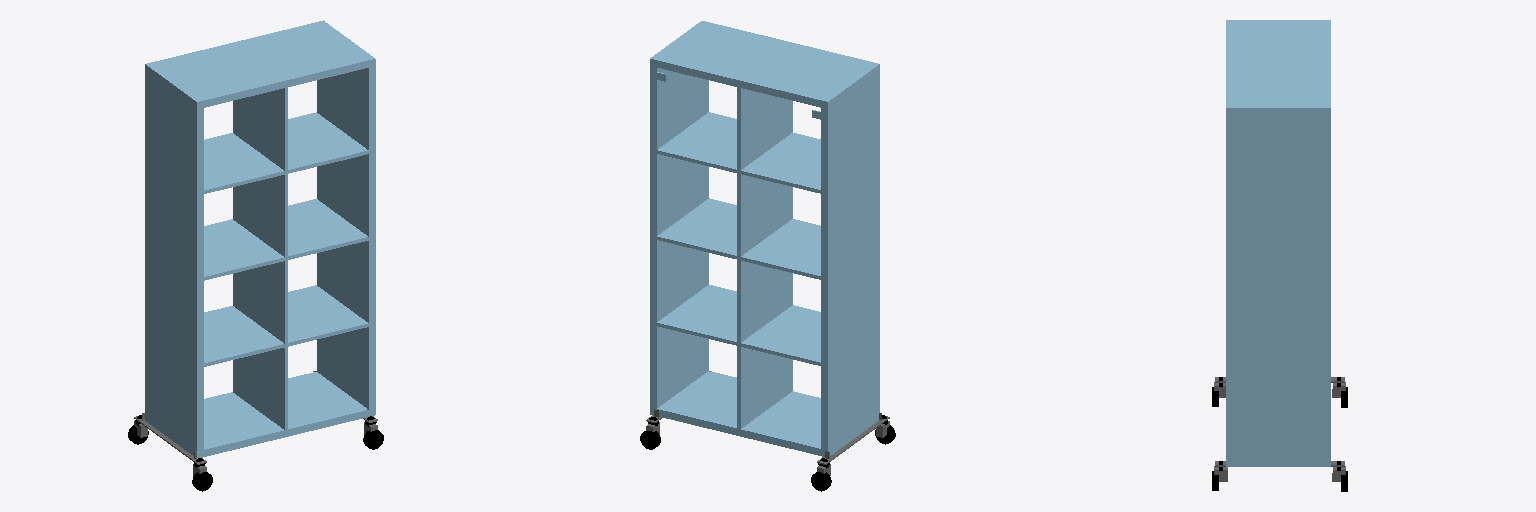
URDF robot description (bookcase):
<robot name="bookcase">
    <link name="base_footprint">
      <inertial>
        <origin
            xyz="0 0 0"
            rpy="0 0 0" />
        <mass
            value="0.1" />
        <inertia
            ixx="1"
            ixy="0"
            ixz="0"
            iyy="1"
            iyz="0"
            izz="1" />            
      </inertial>
    </link>

    <link name="bookcase">
        <visual>
            <geometry>
                <mesh filename="bookcase.stl"/>
            </geometry>
            <material name="blue">
                <color rgba="0.61961  0.79216  0.88235 1.0"/>
            </material>
        </visual>
        <collision>
            <geometry>
                <mesh filename="bookcase.stl"/>
            </geometry>
        </collision>
    </link>

    # Copied from wheels.urdf.
    <link name="r_wheel_link">
        <collision>
          <origin xyz="-0.0 -0.0025 0.0" />
          <geometry>
            <box size="0.04 0.005 0.48" />
          </geometry>
        </collision>
        <visual>
          <origin xyz="-0.0 -0.0025 0.0" />
          <material name="c">
            <color rgba="0.48 0.48 0.48 1.0"/>
          </material>
          <geometry>
            <box size="0.04 0.005 0.48" />
          </geometry>
        </visual>
        <collision>
          <origin xyz="0.0 0.015 0.19625" />
          <geometry>
            <box size="0.02 0.03 0.0025" />
          </geometry>
        </collision>
        <visual>
          <origin xyz="0.0 0.015 0.19625" />
          <material name="c">
            <color rgba="0.48 0.48 0.48 1.0"/>
          </material>
          <geometry>
            <box size="0.02 0.03 0.0025" />
          </geometry>
        </visual>
        <collision>
          <origin xyz="0.0 0.015 -0.19625" />
          <geometry>
            <box size="0.02 0.03 0.0025" />
          </geometry>
        </collision>
        <visual>
          <origin xyz="0.0 0.015 -0.19625" />
          <material name="c">
            <color rgba="0.48 0.48 0.48 1.0"/>
          </material>
          <geometry>
            <box size="0.02 0.03 0.0025" />
          </geometry>
        </visual>
        <collision>
          <origin xyz="0.0 -0.0125 0.22" />
          <geometry>
            <cylinder length="0.015" radius="0.02" />
          </geometry>
        </collision>
        <visual>
          <origin xyz="0.0 -0.0125 0.22" />
          <material name="c">
            <color rgba="0.0 0.0 0.0 0.8"/>
          </material>
          <geometry>
            <cylinder length="0.015" radius="0.02" />
          </geometry>
        </visual>
        <collision>
          <origin xyz="0.0 -0.0125 -0.22" />
          <geometry>
            <cylinder length="0.015" radius="0.02" />
          </geometry>
        </collision>
        <visual>
          <origin xyz="0.0 -0.0125 -0.22" />
          <material name="c">
            <color rgba="0.0 0.0 0.0 0.8"/>
          </material>
          <geometry>
            <cylinder length="0.015" radius="0.02" />
          </geometry>
        </visual>
        <collision>
          <origin xyz="0.0 -0.075 -0.24" />
          <geometry>
            <cylinder length="0.026" radius="0.035" />
          </geometry>
        </collision>
        <visual>
          <origin xyz="0.0 -0.075 -0.24" />
          <material name="d">
            <color rgba="0.0 0.0 0.0 1.0"/>
          </material>
          <geometry>
            <cylinder length="0.026" radius="0.035" />
          </geometry>
        </visual>
        <collision>
          <origin xyz="0.0 -0.075 -0.24" />
          <geometry>
            <cylinder length="0.025" radius="0.0375" />
          </geometry>
        </collision>
        <visual>
          <origin xyz="0.0 -0.075 -0.24" />
          <material name="d">
            <color rgba="0.0 0.0 0.0 1.0"/>
          </material>
          <geometry>
            <cylinder length="0.025" radius="0.0375" />
          </geometry>
        </visual>
        <collision>
          <origin xyz="0.0 -0.045 -0.22" />
          <geometry>
            <box size="0.03 0.05 0.05" />
          </geometry>
        </collision>
        <visual>
          <origin xyz="0.0 -0.045 -0.22" />
          <material name="c">
            <color rgba="0.48 0.48 0.48 1.0"/>
          </material>
          <geometry>
            <box size="0.03 0.05 0.05" />
          </geometry>
        </visual>
        <collision>
          <origin xyz="0.0 -0.075 0.24" />
          <geometry>
            <cylinder length="0.026" radius="0.035" />
          </geometry>
        </collision>
        <visual>
          <origin xyz="0.0 -0.075 0.24" />
          <material name="d">
            <color rgba="0.0 0.0 0.0 1.0"/>
          </material>
          <geometry>
            <cylinder length="0.026" radius="0.035" />
          </geometry>
        </visual>
        <collision>
          <origin xyz="0.0 -0.075 0.24" />
          <geometry>
            <cylinder length="0.025" radius="0.0375" />
          </geometry>
        </collision>
        <visual>
          <origin xyz="0.0 -0.075 0.24" />
          <material name="d">
            <color rgba="0.0 0.0 0.0 1.0"/>
          </material>
          <geometry>
            <cylinder length="0.025" radius="0.0375" />
          </geometry>
        </visual>
        <collision>
          <origin xyz="0.0 -0.045 0.22" />
          <geometry>
            <box size="0.03 0.05 0.05" />
          </geometry>
        </collision>
        <visual>
          <origin xyz="0.0 -0.045 0.22" />
          <material name="c">
            <color rgba="0.48 0.48 0.48 1.0"/>
          </material>
          <geometry>
            <box size="0.03 0.05 0.05" />
          </geometry>
        </visual>
    </link>

    # Copied from wheels.urdf.
    <link name="l_wheel_link">
        <collision>
          <origin xyz="-0.0 -0.0025 0.0" />
          <geometry>
            <box size="0.04 0.005 0.48" />
          </geometry>
        </collision>
        <visual>
          <origin xyz="-0.0 -0.0025 0.0" />
          <material name="c">
            <color rgba="0.48 0.48 0.48 1.0"/>
          </material>
          <geometry>
            <box size="0.04 0.005 0.48" />
          </geometry>
        </visual>
        <collision>
          <origin xyz="0.0 0.015 0.19625" />
          <geometry>
            <box size="0.02 0.03 0.0025" />
          </geometry>
        </collision>
        <visual>
          <origin xyz="0.0 0.015 0.19625" />
          <material name="c">
            <color rgba="0.48 0.48 0.48 1.0"/>
          </material>
          <geometry>
            <box size="0.02 0.03 0.0025" />
          </geometry>
        </visual>
        <collision>
          <origin xyz="0.0 0.015 -0.19625" />
          <geometry>
            <box size="0.02 0.03 0.0025" />
          </geometry>
        </collision>
        <visual>
          <origin xyz="0.0 0.015 -0.19625" />
          <material name="c">
            <color rgba="0.48 0.48 0.48 1.0"/>
          </material>
          <geometry>
            <box size="0.02 0.03 0.0025" />
          </geometry>
        </visual>
        <collision>
          <origin xyz="0.0 -0.0125 0.22" />
          <geometry>
            <cylinder length="0.015" radius="0.02" />
          </geometry>
        </collision>
        <visual>
          <origin xyz="0.0 -0.0125 0.22" />
          <material name="c">
            <color rgba="0.0 0.0 0.0 0.8"/>
          </material>
          <geometry>
            <cylinder length="0.015" radius="0.02" />
          </geometry>
        </visual>
        <collision>
          <origin xyz="0.0 -0.0125 -0.22" />
          <geometry>
            <cylinder length="0.015" radius="0.02" />
          </geometry>
        </collision>
        <visual>
          <origin xyz="0.0 -0.0125 -0.22" />
          <material name="c">
            <color rgba="0.0 0.0 0.0 0.8"/>
          </material>
          <geometry>
            <cylinder length="0.015" radius="0.02" />
          </geometry>
        </visual>
        <collision>
          <origin xyz="0.0 -0.075 -0.24" />
          <geometry>
            <cylinder length="0.026" radius="0.035" />
          </geometry>
        </collision>
        <visual>
          <origin xyz="0.0 -0.075 -0.24" />
          <material name="d">
            <color rgba="0.0 0.0 0.0 1.0" />
          </material>
          <geometry>
            <cylinder length="0.026" radius="0.035" />
          </geometry>
        </visual>
        <collision>
          <origin xyz="0.0 -0.075 -0.24" />
          <geometry>
            <cylinder length="0.025" radius="0.0375" />
          </geometry>
        </collision>
        <visual>
          <origin xyz="0.0 -0.075 -0.24" />
          <material name="d">
            <color rgba="0.0 0.0 0.0 1.0"/>
          </material>
          <geometry>
            <cylinder length="0.025" radius="0.0375" />
          </geometry>
        </visual>
        <collision>
          <origin xyz="0.0 -0.045 -0.22" />
          <geometry>
            <box size="0.03 0.05 0.05" />
          </geometry>
        </collision>
        <visual>
          <origin xyz="0.0 -0.045 -0.22" />
          <material name="c">
            <color rgba="0.48 0.48 0.48 1.0"/>
          </material>
          <geometry>
            <box size="0.03 0.05 0.05" />
          </geometry>
        </visual>
        <collision>
          <origin xyz="0.0 -0.075 0.24" />
          <geometry>
            <cylinder length="0.026" radius="0.035" />
          </geometry>
        </collision>
        <visual>
          <origin xyz="0.0 -0.075 0.24" />
          <material name="d">
            <color rgba="0.0 0.0 0.0 1.0"/>
          </material>
          <geometry>
            <cylinder length="0.026" radius="0.035" />
          </geometry>
        </visual>
        <collision>
          <origin xyz="0.0 -0.075 0.24" />
          <geometry>
            <cylinder length="0.025" radius="0.0375" />
          </geometry>
        </collision>
        <visual>
          <origin xyz="0.0 -0.075 0.24" />
          <material name="d">
            <color rgba="0.0 0.0 0.0 1.0"/>
          </material>
          <geometry>
            <cylinder length="0.025" radius="0.0375" />
          </geometry>
        </visual>
        <collision>
          <origin xyz="0.0 -0.045 0.22" />
          <geometry>
            <box size="0.03 0.05 0.05" />
          </geometry>
        </collision>
        <visual>
          <origin xyz="0.0 -0.045 0.22" />
          <material name="c">
            <color rgba="0.48 0.48 0.48 1.0"/>
          </material>
          <geometry>
            <box size="0.03 0.05 0.05" />
          </geometry>
        </visual>
    </link>

    <joint
        name="base_to_l_wheel"
        type="fixed">
      <origin
          xyz="0.738 0.2 0.1125" 
          rpy="1.57 0 0"/>
      <parent
          link="base_footprint" />
      <child
          link="l_wheel_link" />
    </joint>

    <joint
        name="base_to_bookcase"
        type="fixed">
      <origin
          xyz="0.0 0.0 0.1125" />
      <parent
          link="base_footprint" />
      <child
          link="bookcase" />
    </joint>

    <joint
        name="base_to_r_wheel"
        type="fixed">
      <origin
          xyz="0 0.2 0.1125"
          rpy="1.57 0 0" />
      <parent
          link="base_footprint" />
      <child
          link="r_wheel_link" />
    </joint>

</robot>

--- Render facts (derived) ---
Views: 3 orthographic renders of the robot side by side, from view 1: azimuth 30°, elevation 25°; view 2: azimuth 150°, elevation 25°; view 3: azimuth 270°, elevation 25°.
Model bookcase with 4 links and 3 joints (3 fixed), rooted at base_footprint, posed every joint at zero.
Visible links, largest first — view 1: bookcase, r_wheel_link; view 2: bookcase, r_wheel_link, l_wheel_link; view 3: bookcase, l_wheel_link, r_wheel_link.
Boxes of the visible links, x1,y1,x2,y2 form: bookcase: [145, 20, 375, 458]; r_wheel_link: [128, 413, 212, 491]; bookcase: [650, 21, 879, 456]; r_wheel_link: [811, 413, 895, 491]; l_wheel_link: [640, 371, 710, 449]; bookcase: [1226, 20, 1330, 466]; l_wheel_link: [1212, 461, 1347, 491]; r_wheel_link: [1212, 377, 1347, 407].
Bounding box of the posed robot: 0.813 × 0.5061 × 1.58 m (x, y, z).
Meshes: 1 distinct files referenced, 1 mesh visuals loaded (1 binary STL).